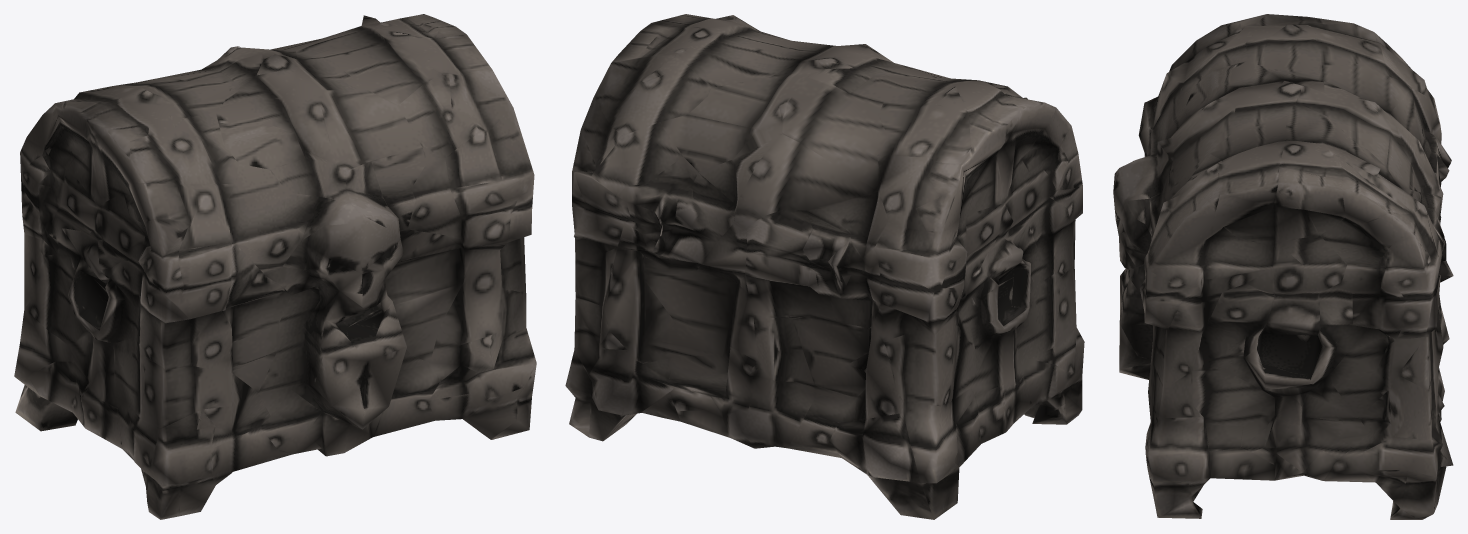
The model's file is treasure_chest_locked.glb.
3 renders of one model, left to right at view 1: azimuth 30°, elevation 25°; view 2: azimuth 150°, elevation 25°; view 3: azimuth 270°, elevation 25°, orthographic. The views are drawn at different scales.
Bounding box in the file's own units: 2 × 1.84 × 1.62.
1 material, 1 textured.
